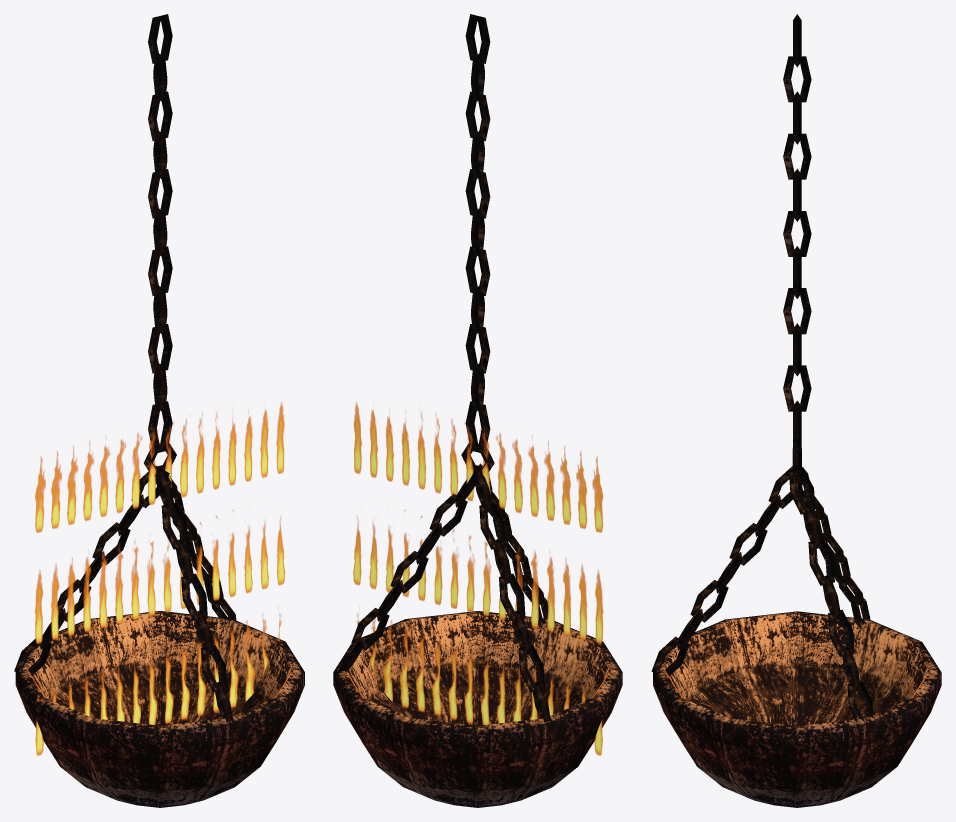
File: mm6_deco_brazier.glb
3 renders of one model, left to right at view 1: azimuth 30°, elevation 25°; view 2: azimuth 150°, elevation 25°; view 3: azimuth 270°, elevation 25°, orthographic.
Visible parts, largest first — view 1: Brazier; view 2: Brazier; view 3: Brazier.
Part boxes in pixels (left/top/right/bottom): Brazier: left=14, top=14, right=304, bottom=807; Brazier: left=333, top=14, right=622, bottom=807; Brazier: left=651, top=14, right=941, bottom=807.
Bounding box in the file's own units: 0.612 × 1.79 × 0.5983.
3 materials, 3 textured.
